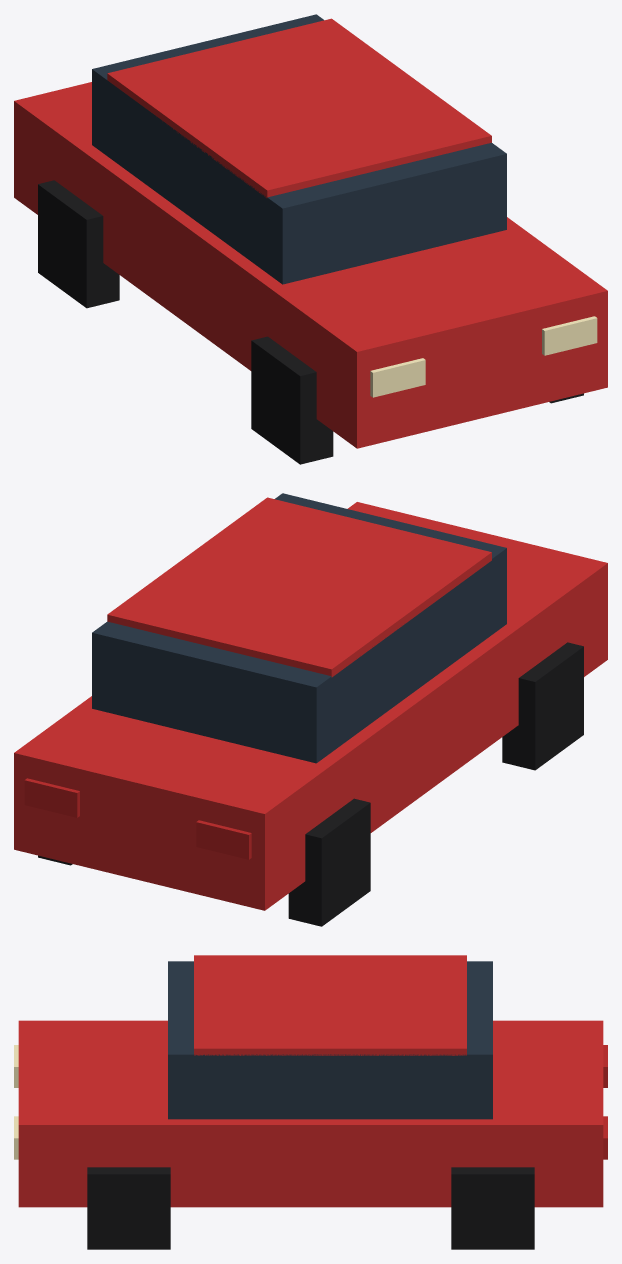
Rendered from car-red.glb.
3 views of the same model, one above another, from view 1: azimuth 30°, elevation 25°; view 2: azimuth 150°, elevation 25°; view 3: azimuth 270°, elevation 25° (orthographic). The views are drawn at different scales.
Size of the model in its own units: 2.15 by 1.6 by 4.57.
